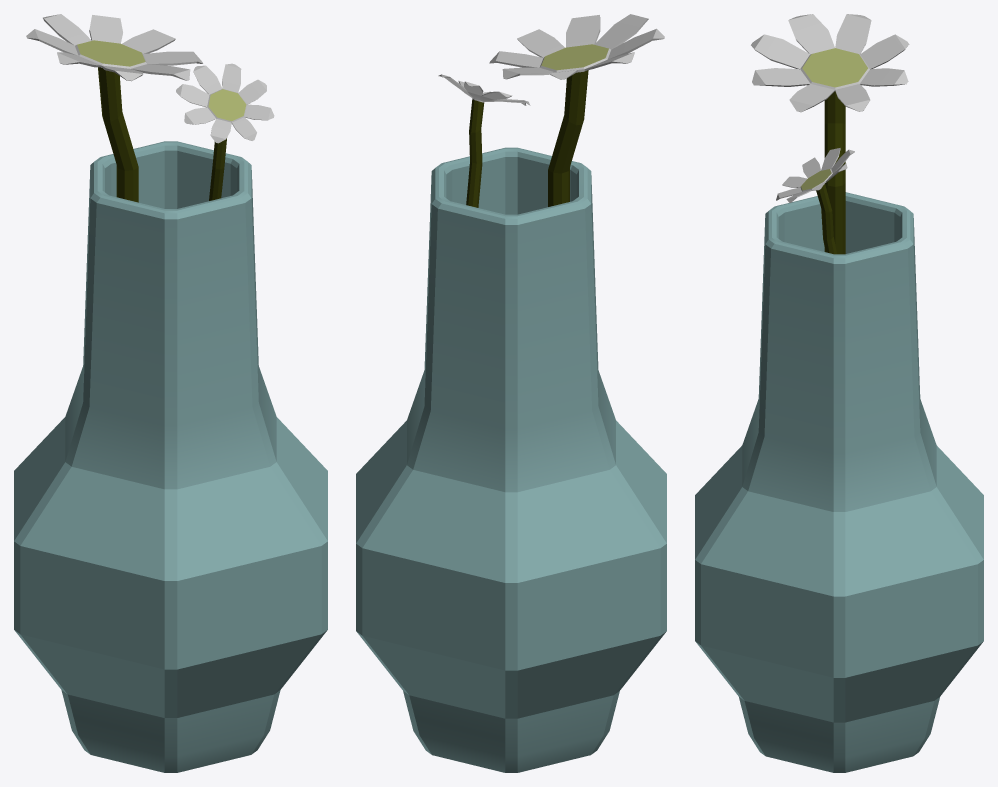
File: flower_vase_1.fbx
The picture shows the model from 3 angles, left to right: view 1: azimuth 30°, elevation 25°; view 2: azimuth 150°, elevation 25°; view 3: azimuth 270°, elevation 25°; orthographic projection. The views are drawn at different scales.
Parts seen in each view (by area): view 1: pCylinder8; view 2: pCylinder8; view 3: pCylinder8.
Boxes of the visible parts, left/top/right/bottom form: pCylinder8: left=14, top=14, right=327, bottom=772; pCylinder8: left=356, top=14, right=666, bottom=772; pCylinder8: left=695, top=14, right=983, bottom=772.
Bounding box in the file's own units: 24.51 × 54.95 × 21.66.
